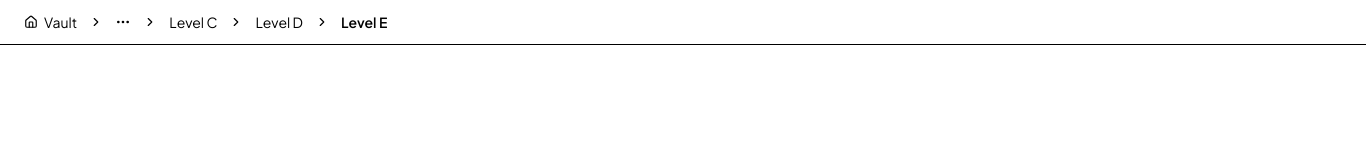
Test: VaultBreadcrumb › ellipsis dropdown shows hidden segments
The width and height of the screenshot is (1366, 160).
Click the button named "Show hidden path segments" at [123, 22], box x1=107 y1=10 x2=139 y2=34
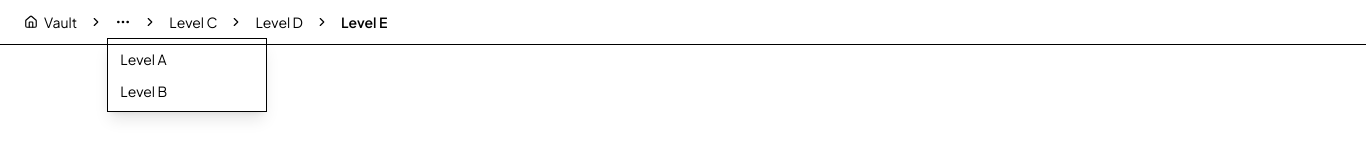
expect the button "Level A" is shown: met, box x1=108 y1=43 x2=266 y2=75
expect the button "Level B" is shown: met, box x1=108 y1=75 x2=266 y2=107
